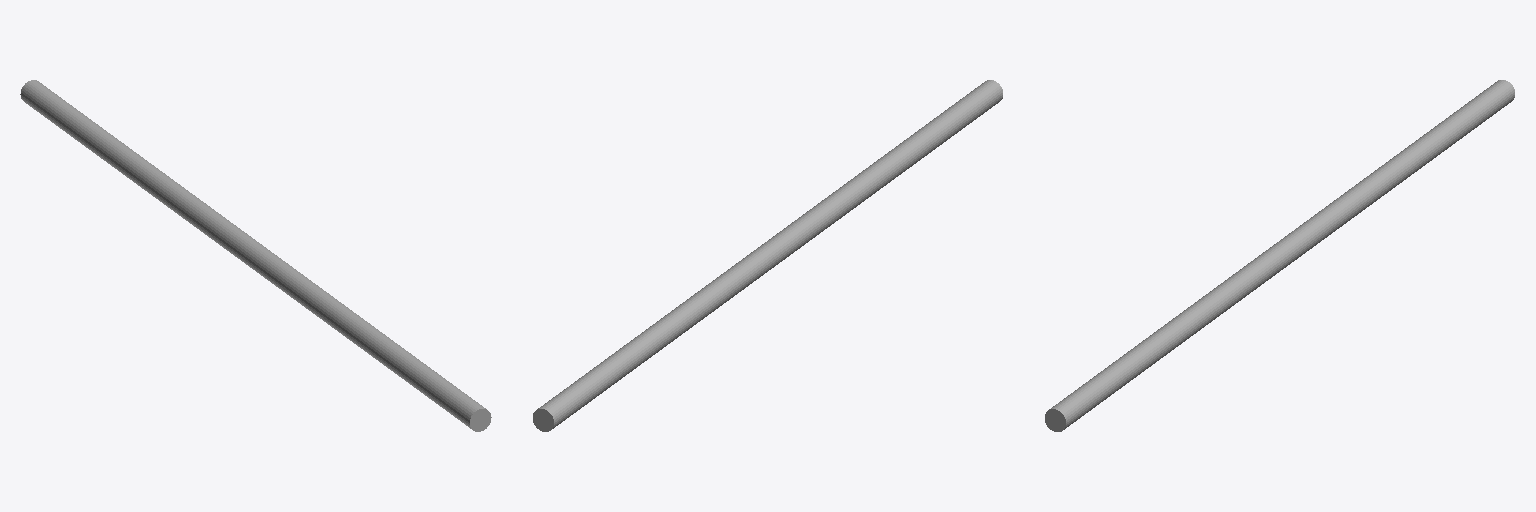
The robot description file, URDF, robot "ur5_tool":
<?xml version="1.0" ?>
<!-- =================================================================================== -->
<!-- |    This document was autogenerated by xacro from ur5_tool/robots/ur5_tool.urdf.xacro | -->
<!-- |    EDITING THIS FILE BY HAND IS NOT RECOMMENDED                                 | -->
<!-- =================================================================================== -->
<robot name="ur5_tool" xmlns:xacro="http://ros.org/wiki/xacro">

  <!-- measured from model -->
  <!-- measured from model -->
  <!--property name="shoulder_height" value="0.089159" /-->
  <!--property name="shoulder_offset" value="0.13585" /-->
  <!-- shoulder_offset - elbow_offset + wrist_1_length = 0.10915 -->
  <!--property name="upper_arm_length" value="0.42500" /-->
  <!--property name="elbow_offset" value="0.1197" /-->
  <!-- CAD measured -->
  <!--property name="forearm_length" value="0.39225" /-->
  <!--property name="wrist_1_length" value="0.093" /-->
  <!-- CAD measured -->
  <!--property name="wrist_2_length" value="0.09465" /-->
  <!-- In CAD this distance is 0.930, but in the spec it is 0.09465 -->
  <!--property name="wrist_3_length" value="0.0823" /-->
  <!-- manually measured -->
  <link name="world"/>
  <!-- attach the robot to the world -->
  <joint name="world_joint" type="fixed">
    <parent link="world"/>
    <child link="base_link"/>
    <origin rpy="0 3.14 0" xyz="0 0.0 2.3"/>
  </joint>

  <link name="base_link">
    <visual>
      <geometry>
        <mesh filename="package://meshes/base.dae"/>
      </geometry>
      <material name="LightGrey">
        <color rgba="0.7 0.7 0.7 1.0"/>
      </material>
    </visual>
    <collision>
      <geometry>
        <mesh filename="package://meshes/base.stl"/>
      </geometry>
    </collision>
    <inertial>
      <mass value="4.0"/>
      <origin rpy="0 0 0" xyz="0.0 0.0 0.0"/>
      <inertia ixx="0.00443333156" ixy="0.0" ixz="0.0" iyy="0.00443333156" iyz="0.0" izz="0.0072"/>
    </inertial>
  </link>
  <joint name="shoulder_pan_joint" type="revolute">
    <parent link="base_link"/>
    <child link="shoulder_link"/>
    <origin rpy="0 0.0 0" xyz="0.0 0.0 0.089159"/>
    <axis xyz="0 0 1"/>
    <limit effort="150.0" lower="-3.14159265" upper="3.14159265" velocity="3.15"/>
    <dynamics damping="0.0" friction="0.0"/>
  </joint>
  <link name="shoulder_link">
    <visual>
      <geometry>
        <mesh filename="package://meshes/shoulder.dae"/>
      </geometry>
      <material name="LightGrey">
        <color rgba="0.7 0.7 0.7 1.0"/>
      </material>
    </visual>
    <collision>
      <geometry>
        <mesh filename="package://meshes/shoulder.stl"/>
      </geometry>
    </collision>
    <inertial>
      <mass value="3.7"/>
      <origin rpy="0 0 0" xyz="0.0 0.0 0.0"/>
      <inertia ixx="0.010267495893" ixy="0.0" ixz="0.0" iyy="0.010267495893" iyz="0.0" izz="0.00666"/>
    </inertial>
  </link>
  <joint name="shoulder_lift_joint" type="revolute">
    <parent link="shoulder_link"/>
    <child link="upper_arm_link"/>
    <origin rpy="0.0 1.570796325 0.0" xyz="0.0 0.13585 0.0"/>
    <!--      <origin xyz="0.0 ${shoulder_offset} 0.0" rpy="0.0 ${angle_offset} 0.0" /> -->
    <axis xyz="0 1 0"/>
    <limit effort="150.0" lower="-3.14159265" upper="3.14159265" velocity="3.15"/>
    <dynamics damping="0.0" friction="0.0"/>
  </joint>
  <link name="upper_arm_link">
    <visual>
      <geometry>
        <mesh filename="package://meshes/upperarm.dae"/>
      </geometry>
      <material name="LightGrey">
        <color rgba="0.7 0.7 0.7 1.0"/>
      </material>
    </visual>
    <collision>
      <geometry>
        <mesh filename="package://meshes/upperarm.stl"/>
      </geometry>
    </collision>
    <inertial>
      <mass value="8.393"/>
      <origin rpy="0 0 0" xyz="0.0 0.0 0.28"/>
      <inertia ixx="0.22689067591" ixy="0.0" ixz="0.0" iyy="0.22689067591" iyz="0.0" izz="0.0151074"/>
    </inertial>
  </link>
  <joint name="elbow_joint" type="revolute">
    <parent link="upper_arm_link"/>
    <child link="forearm_link"/>
    <origin rpy="0.0 0.0 0.0" xyz="0.0 -0.1197 0.425"/>
    <axis xyz="0 1 0"/>
    <limit effort="150.0" lower="-3.14159265" upper="3.14159265" velocity="3.15"/>
    <dynamics damping="0.0" friction="0.0"/>
  </joint>
  <link name="forearm_link">
    <visual>
      <geometry>
        <mesh filename="package://meshes/forearm.dae"/>
      </geometry>
      <material name="LightGrey">
        <color rgba="0.7 0.7 0.7 1.0"/>
      </material>
    </visual>
    <collision>
      <geometry>
        <mesh filename="package://meshes/forearm.stl"/>
      </geometry>
    </collision>
    <inertial>
      <mass value="2.275"/>
      <origin rpy="0 0 0" xyz="0.0 0.0 0.25"/>
      <inertia ixx="0.049443313556" ixy="0.0" ixz="0.0" iyy="0.049443313556" iyz="0.0" izz="0.004095"/>
    </inertial>
  </link>
  <joint name="wrist_1_joint" type="revolute">
    <parent link="forearm_link"/>
    <child link="wrist_1_link"/>
    <origin rpy="0.0 1.570796325 0.0" xyz="0.0 0.0 0.39225"/>
    <axis xyz="0 1 0"/>
    <limit effort="28.0" lower="-3.14159265" upper="3.14159265" velocity="3.2"/>
    <dynamics damping="0.0" friction="0.0"/>
  </joint>
  <link name="wrist_1_link">
    <visual>
      <geometry>
        <mesh filename="package://meshes/wrist1.dae"/>
      </geometry>
      <material name="LightGrey">
        <color rgba="0.7 0.7 0.7 1.0"/>
      </material>
    </visual>
    <collision>
      <geometry>
        <mesh filename="package://meshes/wrist1.stl"/>
      </geometry>
    </collision>
    <inertial>
      <mass value="1.219"/>
      <origin rpy="0 0 0" xyz="0.0 0.0 0.0"/>
      <inertia ixx="0.111172755531" ixy="0.0" ixz="0.0" iyy="0.111172755531" iyz="0.0" izz="0.21942"/>
    </inertial>
  </link>
  <joint name="wrist_2_joint" type="revolute">
    <parent link="wrist_1_link"/>
    <child link="wrist_2_link"/>
    <origin rpy="0.0 0.0 0.0" xyz="0.0 0.093 0.0"/>
    <axis xyz="0 0 1"/>
    <limit effort="28.0" lower="-3.14159265" upper="3.14159265" velocity="3.2"/>
    <dynamics damping="0.0" friction="0.0"/>
  </joint>
  <link name="wrist_2_link">
    <visual>
      <geometry>
        <mesh filename="package://meshes/wrist2.dae"/>
      </geometry>
      <material name="LightGrey">
        <color rgba="0.7 0.7 0.7 1.0"/>
      </material>
    </visual>
    <collision>
      <geometry>
        <mesh filename="package://meshes/wrist2.stl"/>
      </geometry>
    </collision>
    <inertial>
      <mass value="1.219"/>
      <origin rpy="0 0 0" xyz="0.0 0.0 0.0"/>
      <inertia ixx="0.111172755531" ixy="0.0" ixz="0.0" iyy="0.111172755531" iyz="0.0" izz="0.21942"/>
    </inertial>
  </link>
  <joint name="wrist_3_joint" type="revolute">
    <parent link="wrist_2_link"/>
    <child link="wrist_3_link"/>
    <origin rpy="0.0 0.0 0.0" xyz="0.0 0.0 0.09465"/>
    <axis xyz="0 1 0"/>
    <limit effort="28.0" lower="-3.14159265" upper="3.14159265" velocity="3.2"/>
    <dynamics damping="0.0" friction="0.0"/>
  </joint>
  <link name="wrist_3_link">
    <visual>
      <geometry>
        <mesh filename="package://meshes/wrist3.dae"/>
      </geometry>
      <material name="LightGrey">
        <color rgba="0.7 0.7 0.7 1.0"/>
      </material>
    </visual>
    <collision>
      <geometry>
        <mesh filename="package://meshes/wrist3.stl"/>
      </geometry>
    </collision>
    <inertial>
      <mass value="0.1879"/>
      <origin rpy="0 0 0" xyz="0.0 0.0 0.0"/>
      <inertia ixx="0.0171364731454" ixy="0.0" ixz="0.0" iyy="0.0171364731454" iyz="0.0" izz="0.033822"/>
    </inertial>
  </link>
  <joint name="ee_fixed_joint" type="fixed">
    <parent link="wrist_3_link"/>
    <child link="ee_link"/>
    <origin rpy="0.0 0.0 1.570796325" xyz="0.0 0.0823 0.0"/>
  </joint>
  <link name="ee_link">
    <collision>
      <geometry>
        <box size="0.01 0.01 0.01"/>
      </geometry>
      <origin rpy="0 0 0" xyz="-0.01 0 0"/>
    </collision>
  </link>
  <!-- nothing to do here at the moment -->
  <!-- ROS base_link to UR 'Base' Coordinates transform -->
  <link name="base"/>
  <joint name="base_link-base_fixed_joint" type="fixed">
    <!-- NOTE: this rotation is only needed as long as base_link itself is
                 not corrected wrt the real robot (ie: rotated over 180
                 degrees)
      -->
    <origin rpy="0 0 -3.14159265" xyz="0 0 0"/>
    <parent link="base_link"/>
    <child link="base"/>
  </joint>
  <!-- Frame coincident with all-zeros TCP on UR controller -->
  <link name="tool0"/>
  <joint name="wrist_3_link-tool0_fixed_joint" type="fixed">
    <origin rpy="-1.570796325 0 0" xyz="0 0.0823 0"/>
    <parent link="wrist_3_link"/>
    <child link="tool0"/>
  </joint>
  <!-- Force Torque Sensor -->
  <!--   <xacro:include filename="$(find robowflex_resources)/robotiq/force_torque_sensor/urdf/robotiq_fts300.urdf.xacro" /> -->
  <!--  -->
  <!--   <xacro:robotiq_fts300 prefix="" parent="ee_link"> -->
  <!--     <origin xyz="0.035 0 0.0" rpy="0.0 0 -1.57" /> -->
  <!--   </xacro:robotiq_fts300> -->
  <!-- GRIPPER -->
  <!-- Import robotiq gazebo and gripper description -->
  <!--   <xacro:include filename="$(find robowflex_resources)/robotiq/85_gripper/urdf/robotiq_85_gripper.urdf.xacro" /> -->
  <!--  -->
  <!--   <xacro:robotiq_85_gripper prefix="" parent="fts_toolside"> -->
  <!--     <origin xyz="0.0 0.0 -0.037" rpy="0.0 0.0 1.57" /> -->
  <!--   </xacro:robotiq_85_gripper> -->
  <link name="tool">
    <visual>
      <geometry>
        <cylinder length="0.5" radius="0.007"/>
      </geometry>
      <material name="LightGrey">
        <color rgba="0.7 0.7 0.7 1.0"/>
      </material>
    </visual>
    <collision>
      <geometry>
        <cylinder length="0.5" radius="0.007"/>
      </geometry>
    </collision>
    <inertial>
      <mass value="0"/>
      <origin rpy="0 0 0" xyz="0.0 0.0 0.0"/>
      <inertia ixx="0.0171364731454" ixy="0.0" ixz="0.0" iyy="0.0171364731454" iyz="0.0" izz="0.033822"/>
    </inertial>
  </link>
  <joint name="tool_jt" type="fixed">
    <origin rpy="3.142 -1.571 0" xyz="0.4 0 0"/>
    <parent link="ee_link"/>
    <child link="tool"/>
  </joint>
  <link name="tool_tip"/>
  <joint name="tool_tip_jt" type="fixed">
    <origin rpy="0 3.142 0" xyz="0 0 0.25"/>
    <parent link="tool"/>
    <child link="tool_tip"/>
  </joint>
</robot>

--- What the picture shows (computed from the rendered views, not written in the file) ---
3 views of the same robot in one strip: view 1: azimuth 30°, elevation 25°; view 2: azimuth 150°, elevation 25°; view 3: azimuth 330°, elevation 25° (orthographic).
Robot: ur5_tool — 13 links, 12 joints (6 revolute, 6 fixed); root link world; default pose: all joints at 0.
Visible links, largest first — view 1: tool; view 2: tool; view 3: tool.
Link boxes in pixels (left/top/right/bottom): tool: left=20, top=80, right=491, bottom=431; tool: left=533, top=80, right=1002, bottom=431; tool: left=1045, top=80, right=1514, bottom=431.
Bounding box of the posed robot: 0.0142 × 0.5 × 0.0141 m (x, y, z).
0 mesh visuals loaded from 7 distinct referenced files (none loaded); not drawn: 7 (reference not matched to a file when rendering).